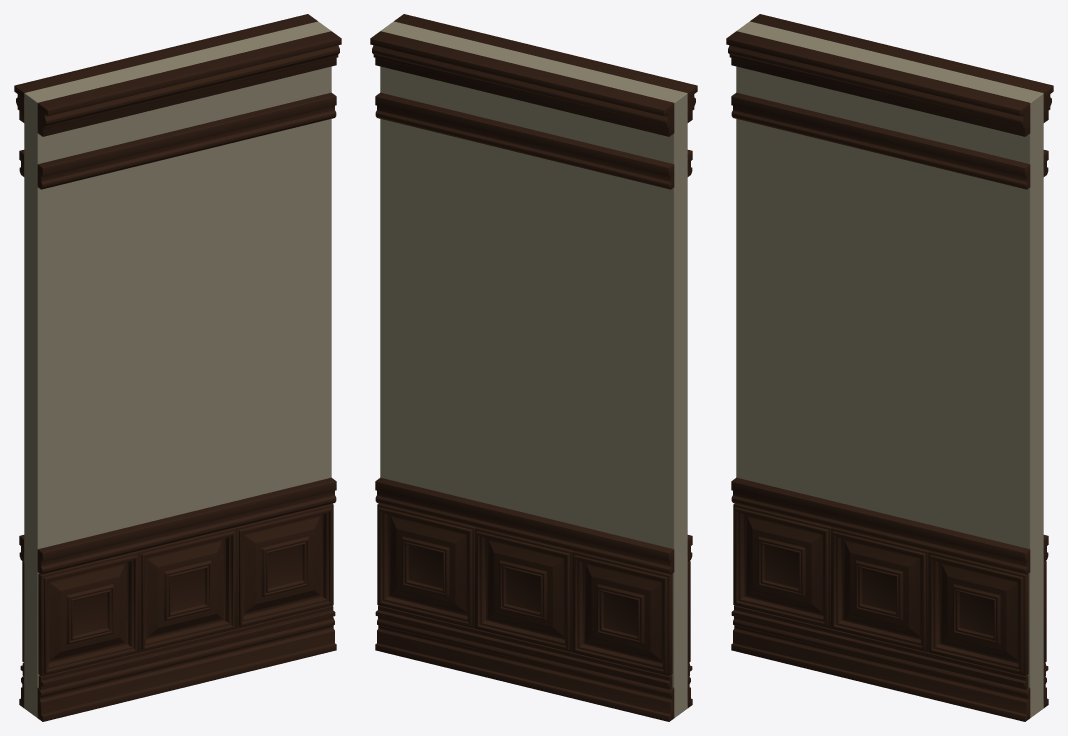
Rendered from SK5 WALL 1 INT.fbx.
3 renders of one model, left to right at view 1: azimuth 30°, elevation 25°; view 2: azimuth 150°, elevation 25°; view 3: azimuth 330°, elevation 25°, orthographic.
Visible parts, largest first — view 1: SK5 WALL 1 INT; view 2: SK5 WALL 1 INT; view 3: SK5 WALL 1 INT.
Boxes of the visible parts, <box> form: SK5 WALL 1 INT: <box>14,14,341,721</box>; SK5 WALL 1 INT: <box>370,14,697,721</box>; SK5 WALL 1 INT: <box>726,14,1053,721</box>.
Bounding box in the file's own units: 200 × 400 × 39.93.
